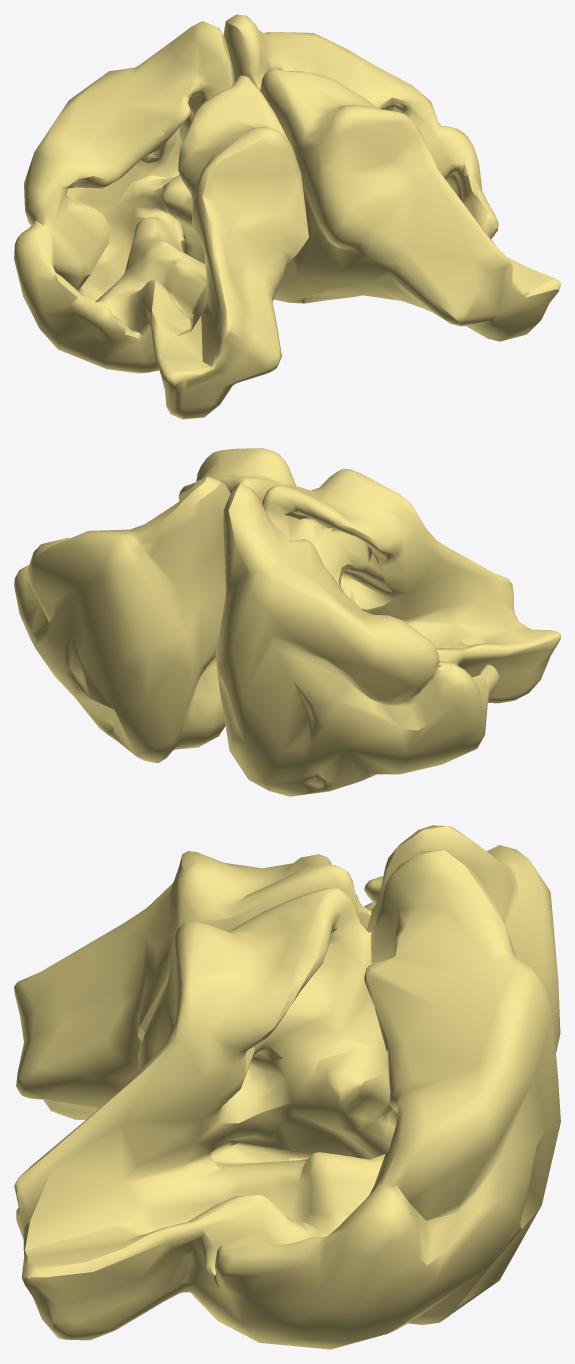
The model's file is lobo-occipital.glb.
The picture shows the model from 3 angles, top to bottom: view 1: azimuth 30°, elevation 25°; view 2: azimuth 150°, elevation 25°; view 3: azimuth 270°, elevation 25°; orthographic projection. The views are drawn at different scales.
Visible parts, largest first — view 1: lobo-occipital; view 2: lobo-occipital; view 3: lobo-occipital.
Boxes of the visible parts, x1,y1,x2,y2 form: lobo-occipital: (14, 14, 560, 419); lobo-occipital: (14, 448, 560, 796); lobo-occipital: (14, 825, 560, 1349).
Bounding box in the file's own units: 0.0884 × 0.0538 × 0.0633.
